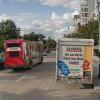Bus: (1, 32, 44, 72)
